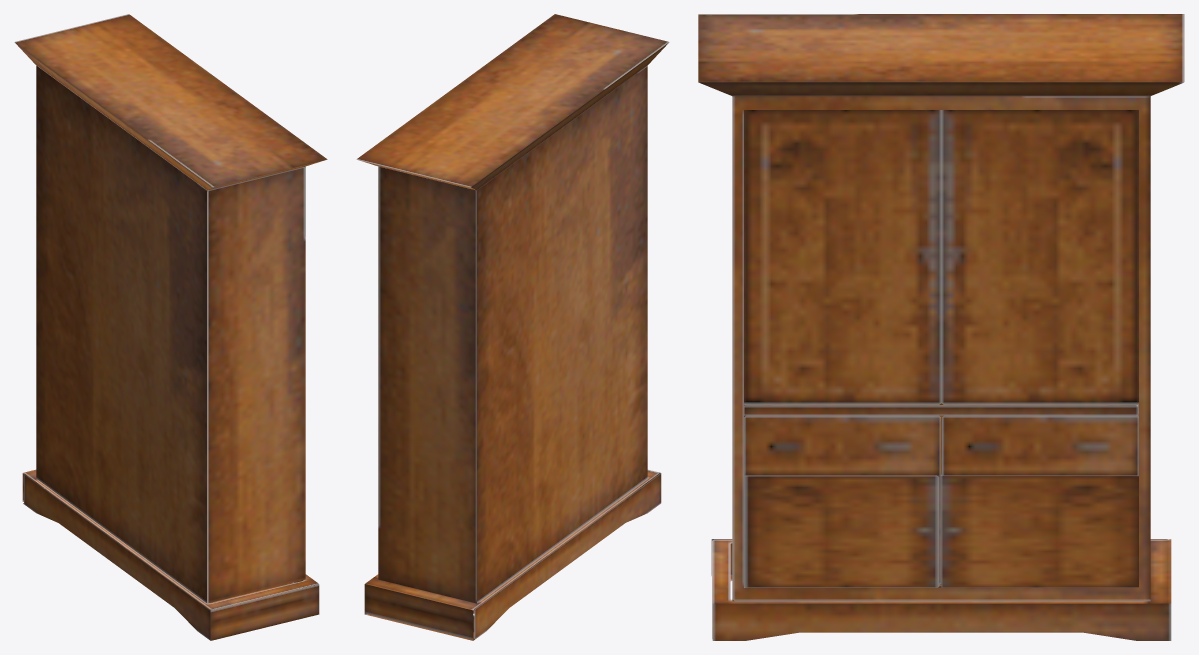
The model's file is Antique Wardrobe.fbx.
3 views of the same model, side by side, from view 1: azimuth 30°, elevation 25°; view 2: azimuth 150°, elevation 25°; view 3: azimuth 270°, elevation 25° (orthographic). The views are drawn at different scales.
Parts seen in each view (by area): view 1: Antique Wardrobe; view 2: Antique Wardrobe; view 3: Antique Wardrobe, Antique Wardrobe Door-1, Antique Wardrobe Door-2, Bottom Door-1, Bottom Door-2, Drawr-1, Drawr-2.
Part boxes in pixels (x1,y1,x2,y2): Antique Wardrobe: (14, 14, 327, 640); Antique Wardrobe: (356, 14, 669, 640); Antique Wardrobe: (698, 14, 1184, 640); Antique Wardrobe Door-1: (941, 110, 1138, 404); Antique Wardrobe Door-2: (744, 110, 941, 404); Bottom Door-1: (941, 475, 1138, 587); Bottom Door-2: (744, 474, 941, 587); Drawr-1: (942, 405, 1138, 475); Drawr-2: (744, 415, 940, 475).
Bounding box in the file's own units: 116 × 444 × 349.
